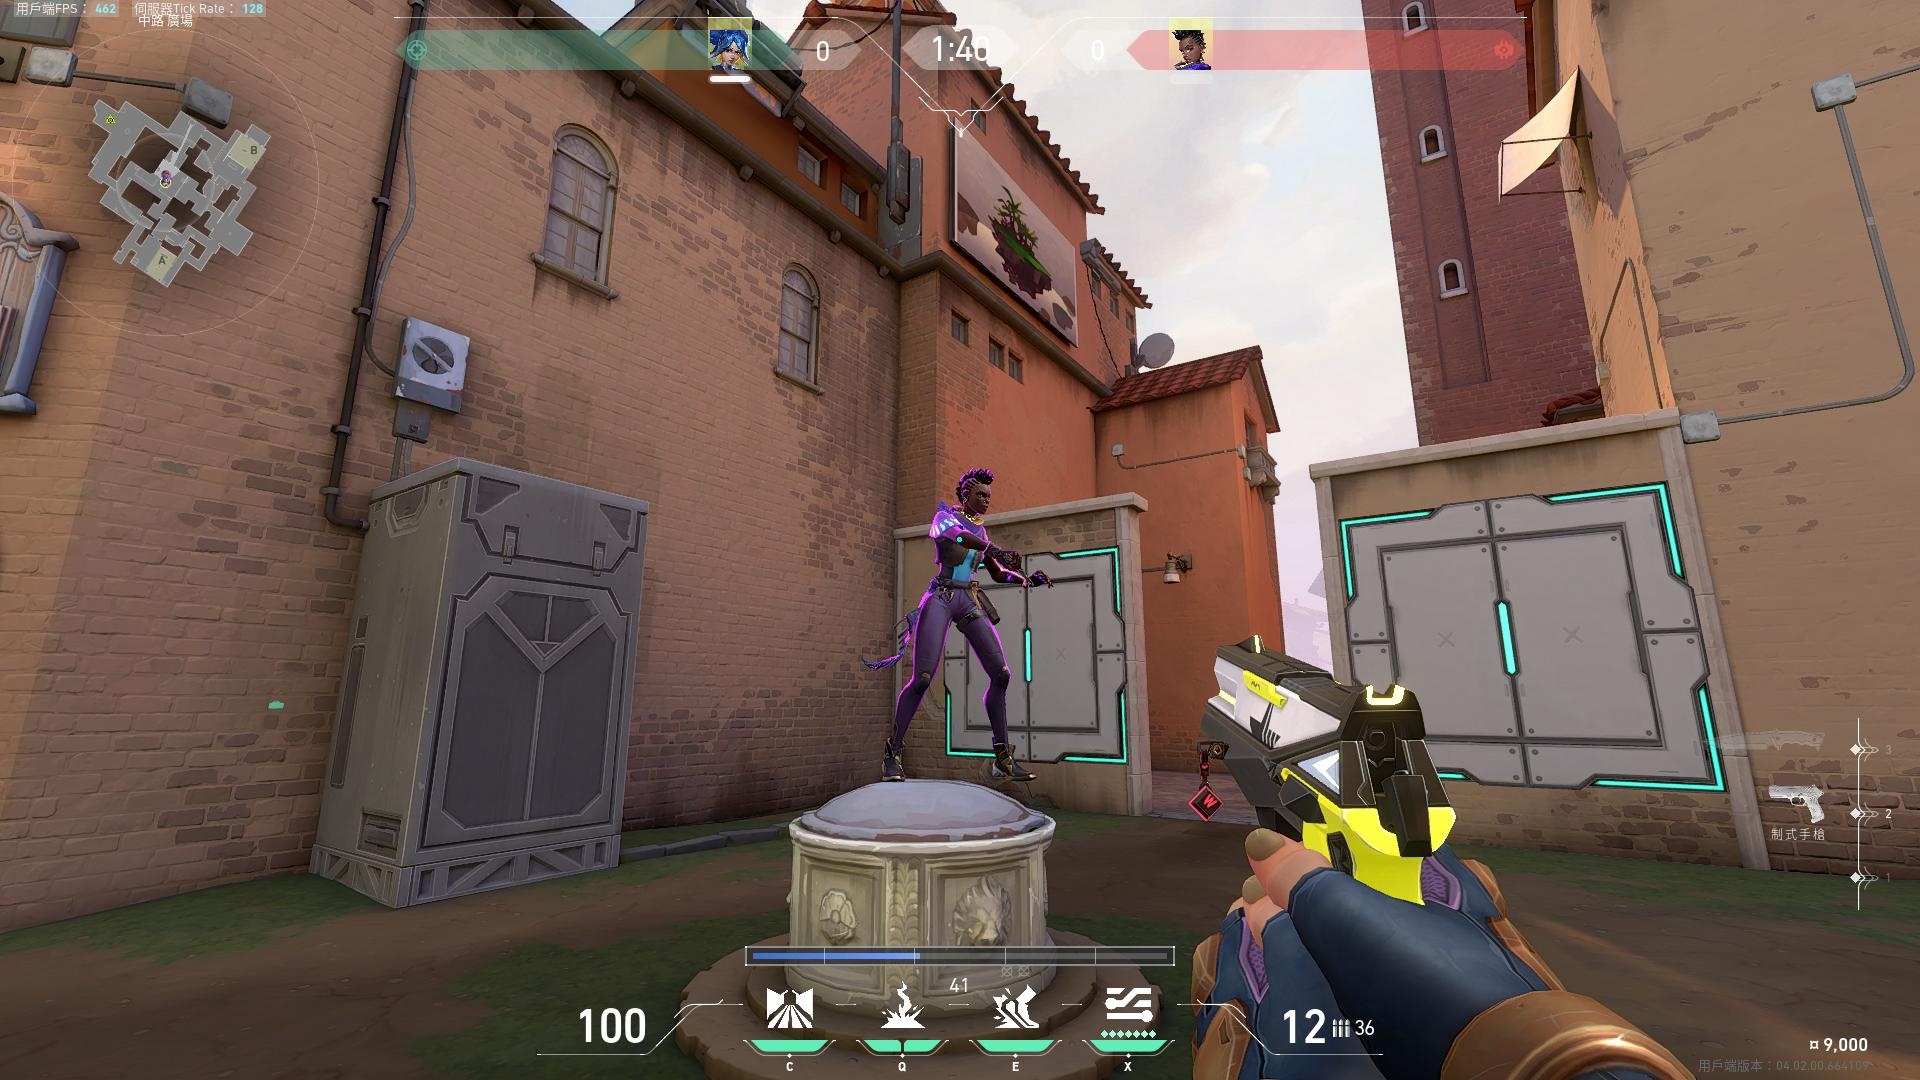enemyBody: (938, 524, 984, 596)
enemyHead: (963, 476, 1000, 508)
